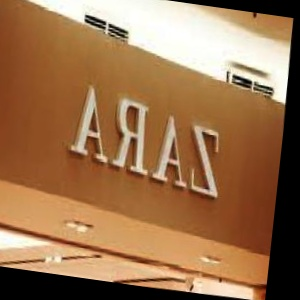zara: (180, 48, 282, 148)
